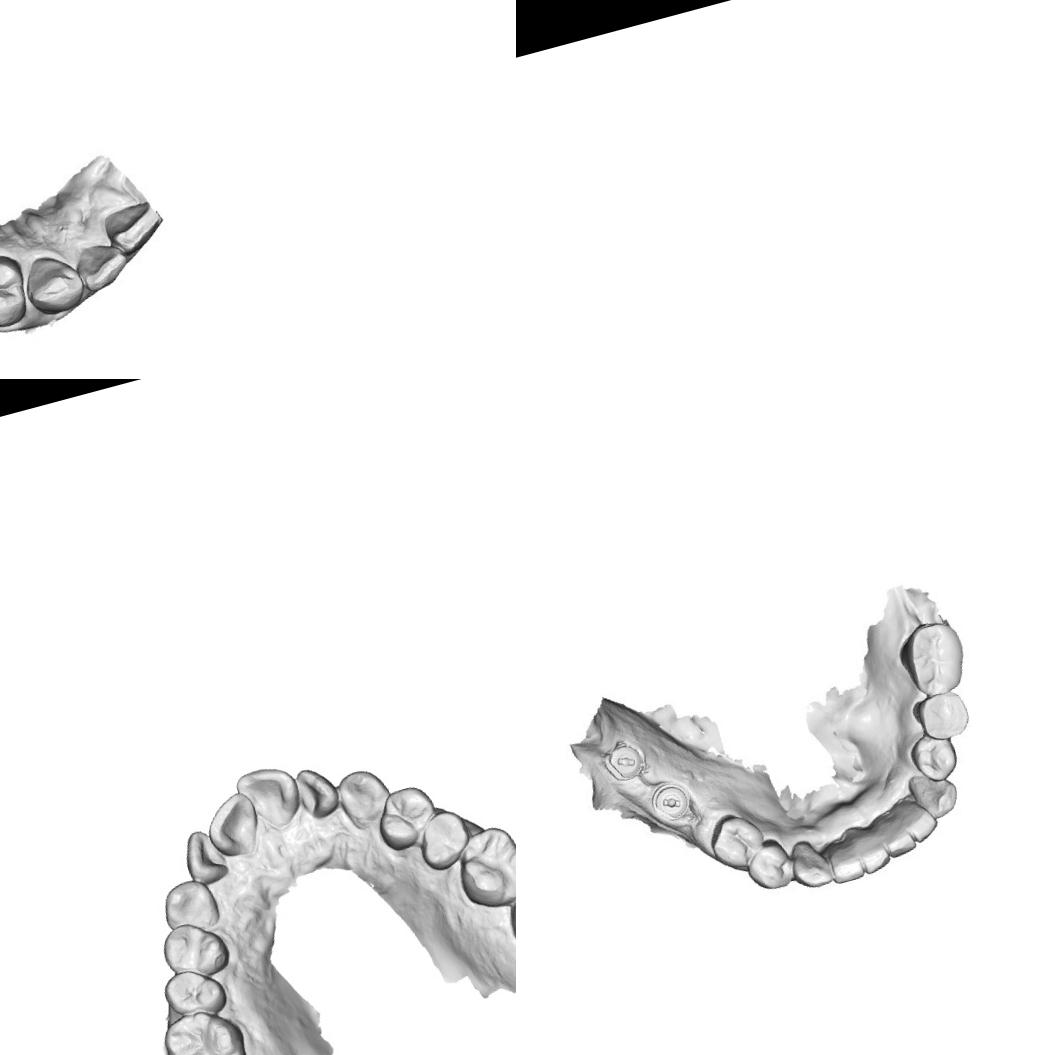canine: (18, 248, 92, 322), (332, 762, 396, 834), (156, 875, 222, 936), (904, 765, 958, 818), (788, 835, 838, 891)
implant_minus: (600, 733, 652, 786), (645, 777, 696, 828)
incisor: (233, 758, 306, 834), (198, 788, 265, 862), (100, 193, 170, 263), (72, 238, 134, 296), (178, 824, 232, 888), (290, 760, 344, 823), (874, 802, 917, 858), (825, 832, 868, 887), (850, 820, 894, 872), (894, 794, 938, 840)
molar: (447, 817, 516, 916), (900, 620, 970, 699), (157, 999, 254, 1055), (498, 864, 516, 956)
premolar: (369, 780, 444, 855), (156, 914, 232, 985), (410, 805, 476, 874), (158, 961, 230, 1023), (704, 808, 765, 871), (914, 686, 974, 744), (0, 249, 36, 336), (743, 843, 793, 893), (910, 732, 956, 783)
